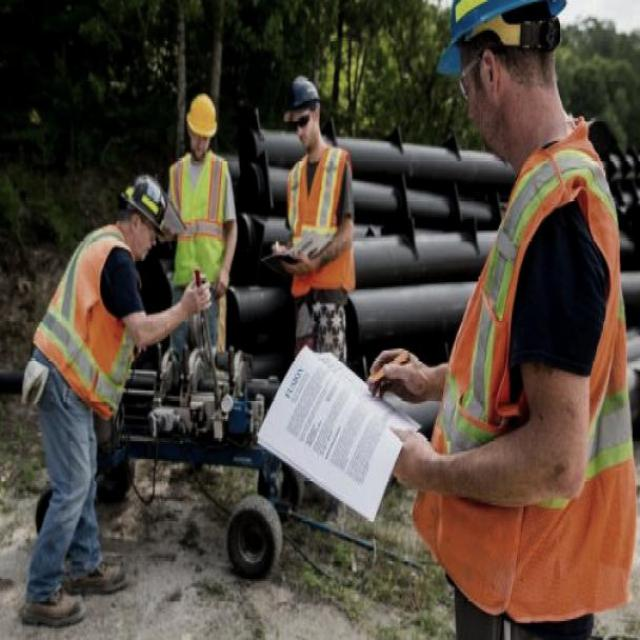helmet: (118, 166, 164, 255), (279, 61, 325, 148), (176, 71, 217, 160)
vest: (412, 150, 636, 615), (53, 213, 144, 415), (278, 143, 366, 293), (168, 156, 240, 288)
